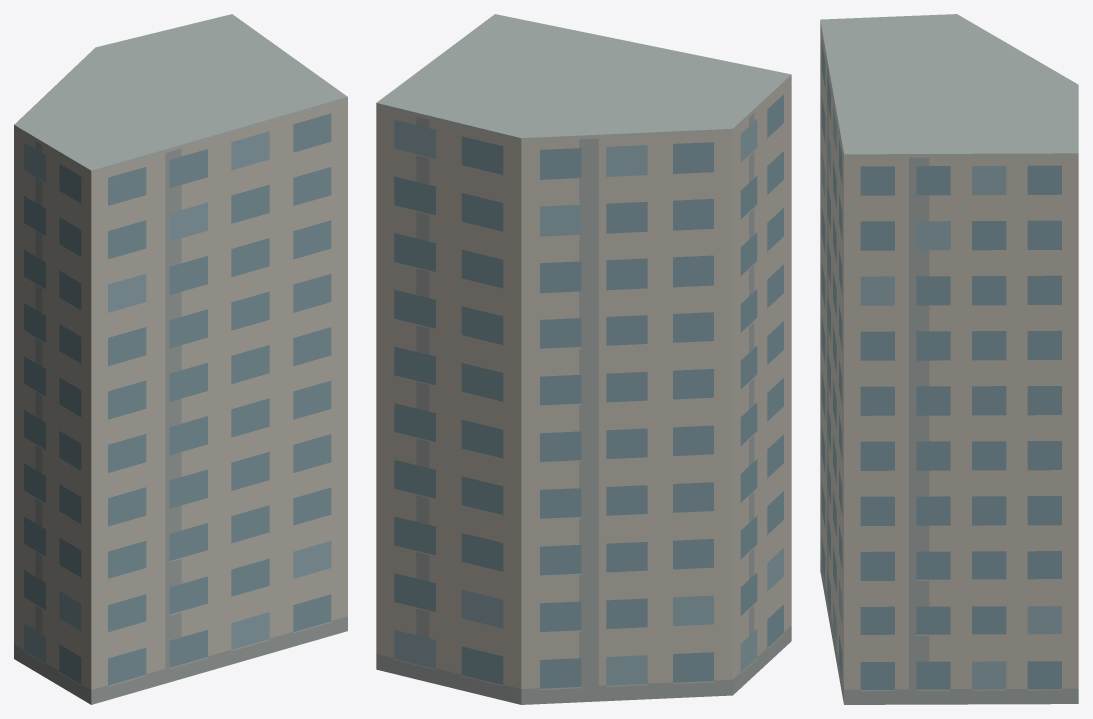
Rendered from residential-4b918f61-ff87-45ac-b074-6b1a25c9f6ca.glb.
3 views of the same model, side by side, from view 1: azimuth 30°, elevation 25°; view 2: azimuth 150°, elevation 25°; view 3: azimuth 270°, elevation 25° (orthographic). The views are drawn at different scales.
Visible parts, largest first — view 1: residential-4b918f61-ff87-45ac-b074-6b1a25c9f6ca.tmp; view 2: residential-4b918f61-ff87-45ac-b074-6b1a25c9f6ca.tmp; view 3: residential-4b918f61-ff87-45ac-b074-6b1a25c9f6ca.tmp.
Boxes of the visible parts, x1,y1,x2,y2 form: residential-4b918f61-ff87-45ac-b074-6b1a25c9f6ca.tmp: (14,14,347,704); residential-4b918f61-ff87-45ac-b074-6b1a25c9f6ca.tmp: (376,14,791,704); residential-4b918f61-ff87-45ac-b074-6b1a25c9f6ca.tmp: (820,14,1078,704).
Size of the model in its own units: 19.68 by 36 by 15.33.
